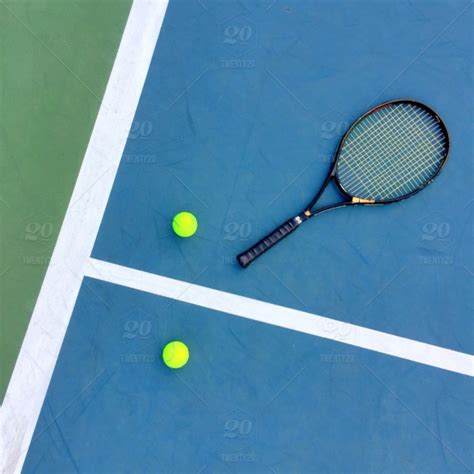tennis_ball: (162, 340, 189, 369), (172, 211, 198, 237)
